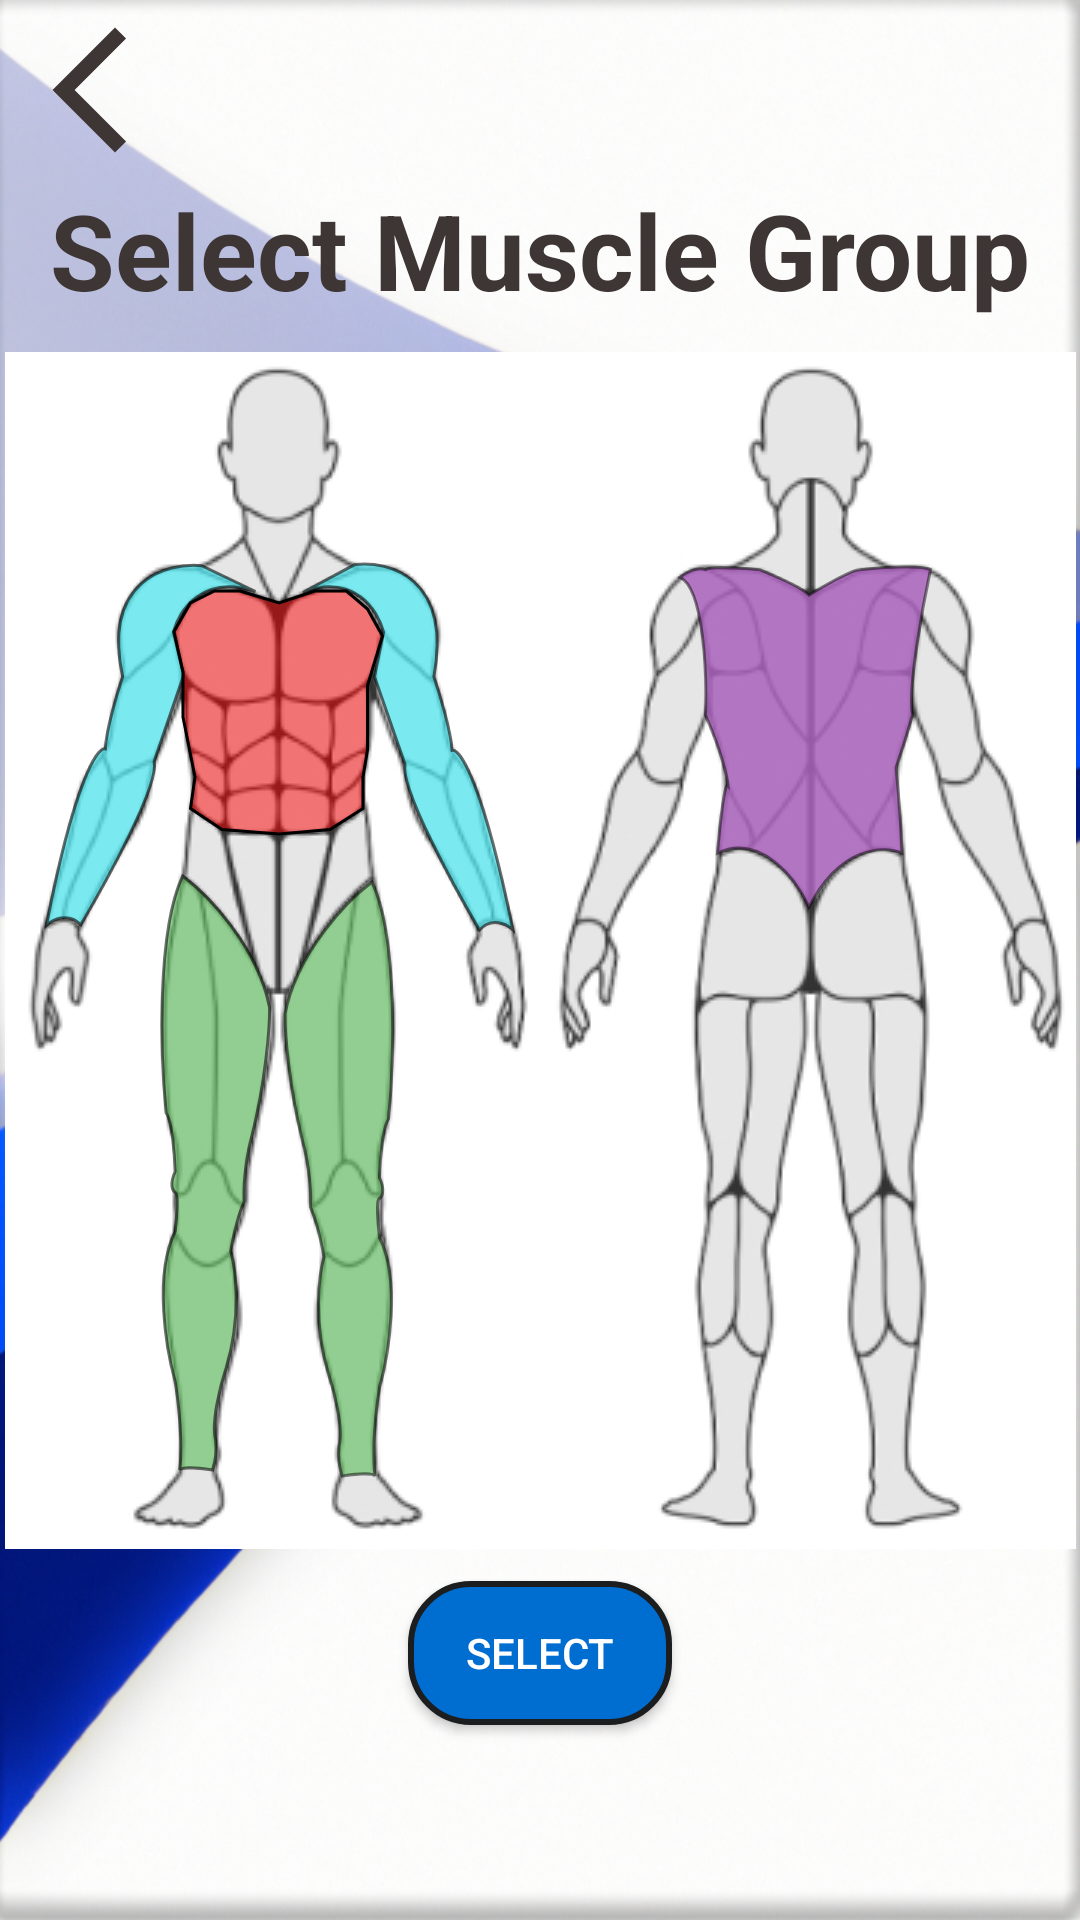

Icons on this 1080w x 1920h Android screen, each with the point to tap as (x,y):
arrow back: (90,90)
